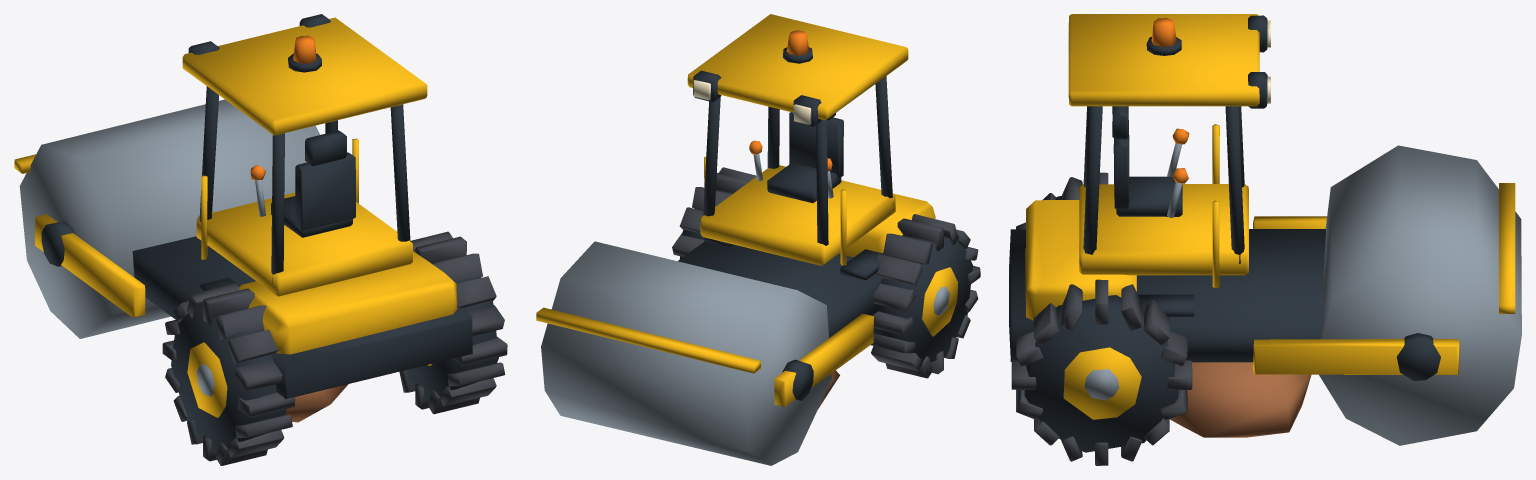
Rendered from roller-low.glb.
3 views of the same model, side by side, from view 1: azimuth 30°, elevation 25°; view 2: azimuth 150°, elevation 25°; view 3: azimuth 270°, elevation 25° (orthographic). The views are drawn at different scales.
Parts seen in each view (by area): view 1: steel drum, cab sill.006, drum fork, axle, headlight housing.012, tread block.256, tread block.272, tire.016, tire.017, rim.016, material load.005, beacon.006; view 2: steel drum, cab sill.006, headlight housing.012, drum fork, tread block.256, axle, tire.016, tread block.272, rim.016, headlight lens.012, beacon.006; view 3: steel drum, cab sill.006, axle, drum fork, tire.017, headlight housing.012, tread block.272, material load.005, rim.017, hub.037, beacon.006, tread block.256 (+1 smaller).
Boxes of the visible parts, box(x1,y1,x2,y2) form: steel drum: box(19, 99, 320, 338); cab sill.006: box(182, 17, 427, 296); drum fork: box(14, 154, 457, 354); axle: box(41, 221, 472, 399); headlight housing.012: box(188, 14, 410, 291); tread block.256: box(162, 283, 295, 465); tread block.272: box(399, 231, 507, 414); tire.016: box(171, 307, 286, 452); tire.017: box(407, 256, 498, 400); rim.016: box(187, 342, 227, 417); material load.005: box(285, 384, 348, 422); beacon.006: box(293, 35, 316, 63); steel drum: box(541, 241, 831, 465); cab sill.006: box(687, 14, 908, 265); headlight housing.012: box(693, 70, 893, 280); drum fork: box(536, 193, 935, 406); tread block.256: box(870, 214, 980, 378); axle: box(678, 241, 882, 400); tire.016: box(873, 235, 972, 365); tread block.272: box(672, 167, 756, 256); rim.016: box(922, 267, 958, 336); headlight lens.012: box(693, 80, 811, 124); beacon.006: box(786, 30, 809, 55); steel drum: box(1319, 145, 1521, 445); cab sill.006: box(1068, 14, 1259, 288); axle: box(1009, 229, 1440, 380); drum fork: box(1025, 183, 1515, 374); tire.017: box(1024, 295, 1178, 452); headlight housing.012: box(1083, 15, 1267, 316); tread block.272: box(1011, 279, 1192, 465); material load.005: box(1170, 362, 1311, 437); rim.017: box(1063, 347, 1141, 419); hub.037: box(1084, 369, 1119, 400); beacon.006: box(1151, 18, 1176, 46); tread block.256: box(1016, 172, 1108, 229).
Bounding box in the file's own units: 2.99 × 4.35 × 4.94.
